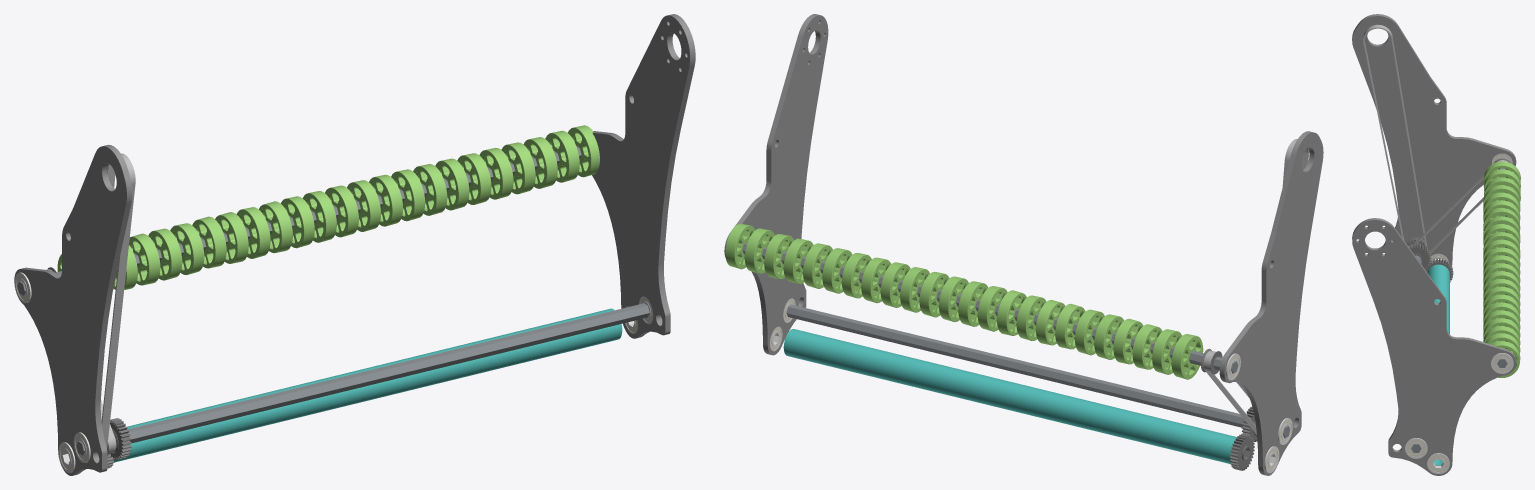
3 renders of one model, left to right at view 1: azimuth 30°, elevation 25°; view 2: azimuth 150°, elevation 25°; view 3: azimuth 270°, elevation 25°, orthographic. The views are drawn at different scales.
Visible parts, largest first — view 1: mesh884_mesh_3, mesh955_mesh_3, mesh924_mesh_1, mesh1004_mesh_5, mesh1004_mesh_6, mesh1004_mesh_2, mesh1012_mesh, mesh924_mesh; view 2: mesh884_mesh_3, mesh955_mesh_3, mesh924_mesh_1, mesh924_mesh, mesh1004_mesh_1, mesh1004_mesh (×2), mesh1004_mesh_2, mesh955_mesh_16; view 3: mesh955_mesh_2, mesh884_mesh_2, mesh1012_mesh_4, mesh924_mesh_1, mesh468_mesh_2, mesh1012_mesh_6, mesh1012_mesh_2, mesh478_mesh_26, mesh468_mesh_4, mesh0_mesh_145.
Part boxes in pixels (x1,y1,x2,y2): mesh884_mesh_3: (14,146,126,475); mesh955_mesh_3: (592,15,690,338); mesh924_mesh_1: (127,308,622,455); mesh1004_mesh_5: (82,306,649,450); mesh1004_mesh_6: (82,313,649,455); mesh1004_mesh_2: (79,303,647,443); mesh1012_mesh: (102,184,135,448); mesh924_mesh: (113,336,621,462); mesh884_mesh_3: (1224,132,1323,475); mesh955_mesh_3: (742,15,828,355); mesh924_mesh_1: (784,329,1237,449); mesh924_mesh: (783,341,1230,463); mesh1004_mesh_1: (786,307,1285,434); mesh1004_mesh (×2): (742,244,1284,437); mesh1004_mesh_2: (788,304,1288,427); mesh955_mesh_16: (768,36,802,142); mesh955_mesh_2: (1352,220,1516,475); mesh884_mesh_2: (1352,16,1516,265); mesh1012_mesh_4: (1363,27,1426,246); mesh924_mesh_1: (1427,264,1448,333); mesh468_mesh_2: (1412,174,1484,245); mesh1012_mesh_6: (1364,41,1404,240); mesh1012_mesh_2: (1392,37,1427,247); mesh478_mesh_26: (1410,246,1431,268); mesh468_mesh_4: (1415,177,1483,252); mesh0_mesh_145: (1483,211,1519,230).
Size of the model in its own units: 0.6587 by 0.3934 by 0.231.
